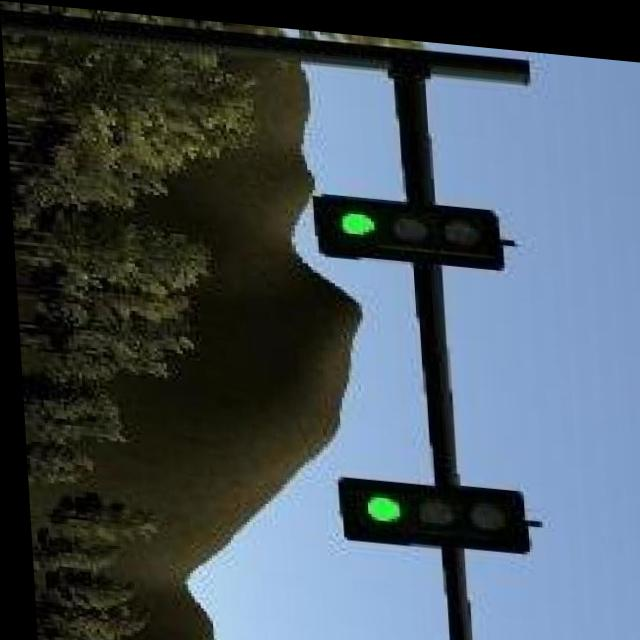green light: (335, 469, 524, 546), (310, 189, 504, 257)
